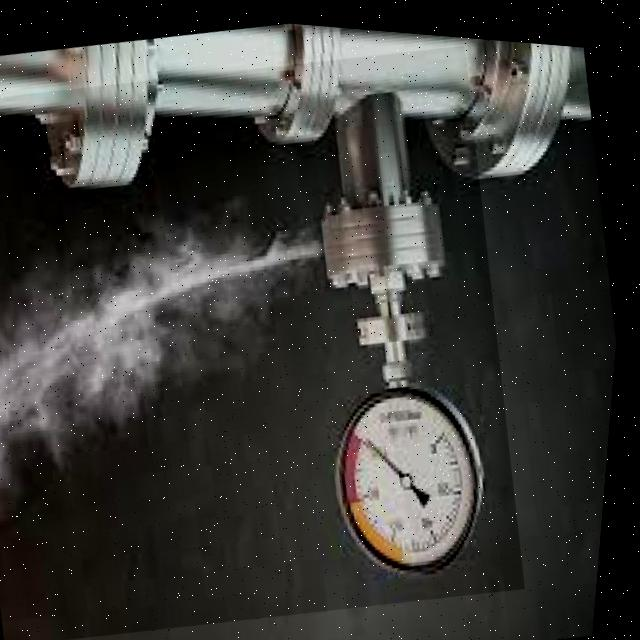corrosion: (65, 125, 406, 360)
